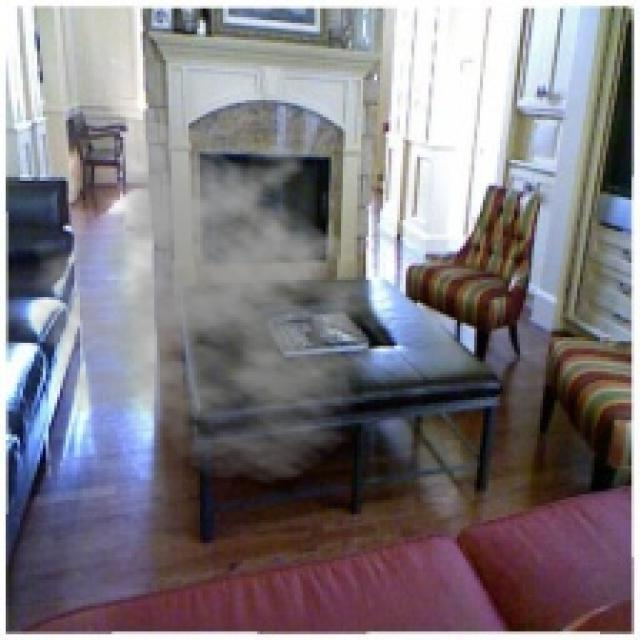Smoke: (11, 114, 412, 486)
